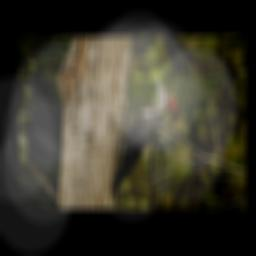Woodpecker: (104, 76, 178, 201)
